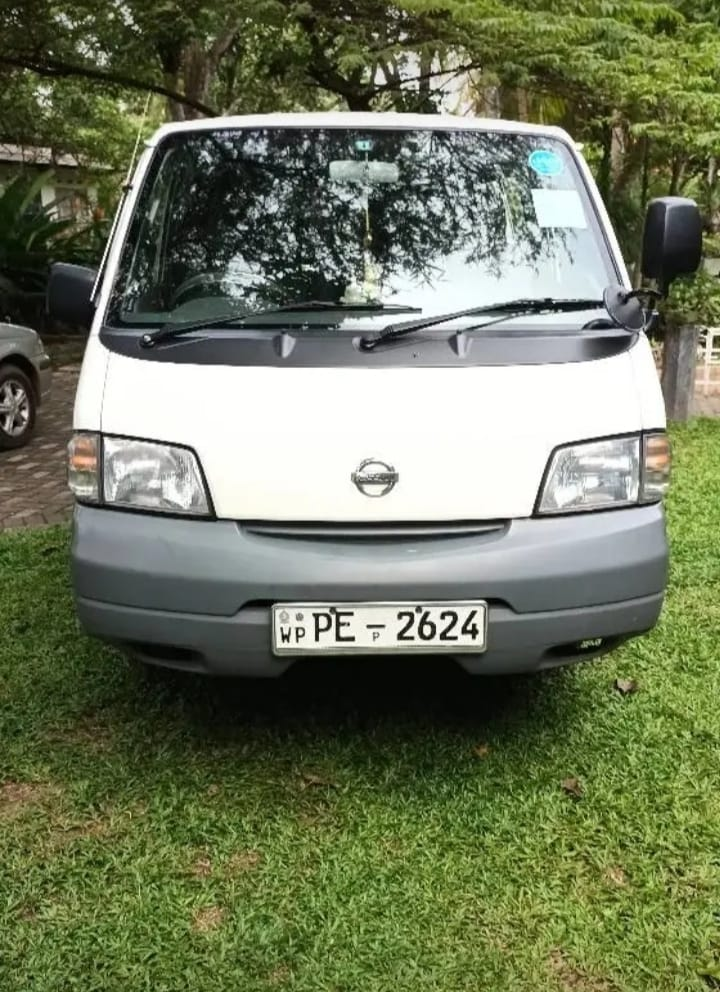number_plate: (271, 603, 488, 649)
